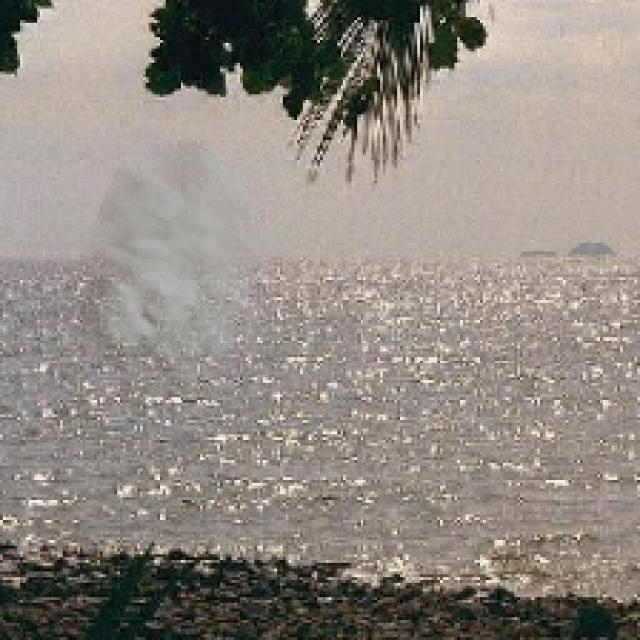Smoke: (57, 128, 289, 398)
